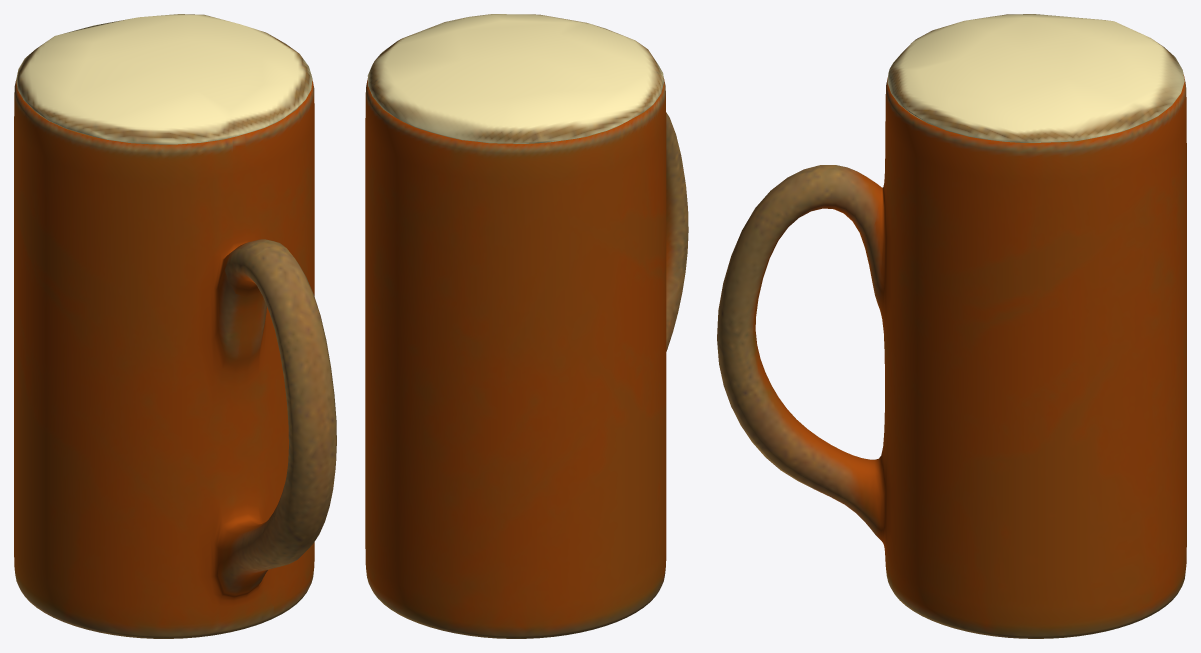
Rendered from SM_Bottle15.fbx.
3 views of the same model, side by side, from view 1: azimuth 30°, elevation 25°; view 2: azimuth 150°, elevation 25°; view 3: azimuth 270°, elevation 25° (orthographic).
Parts seen in each view (by area): view 1: SM_Bottle15_LOD0; view 2: SM_Bottle15_LOD0; view 3: SM_Bottle15_LOD0.
Part boxes in pixels (left/top/right/bottom): SM_Bottle15_LOD0: left=14, top=14, right=336, bottom=638; SM_Bottle15_LOD0: left=365, top=14, right=688, bottom=638; SM_Bottle15_LOD0: left=717, top=14, right=1186, bottom=638.
Size of the model in its own units: 10.74 by 16.72 by 20.42.
Materials: 1 (1 with a texture image).
